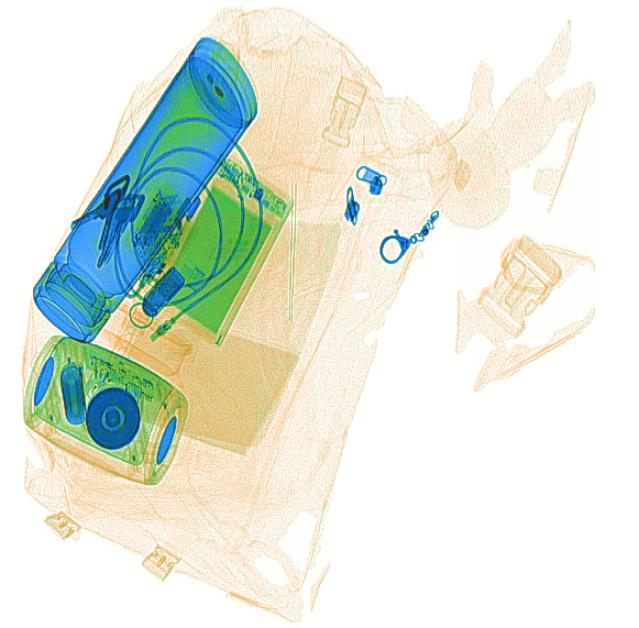USBFlashDisk: (141, 265, 187, 316)
battery: (57, 363, 87, 429)
